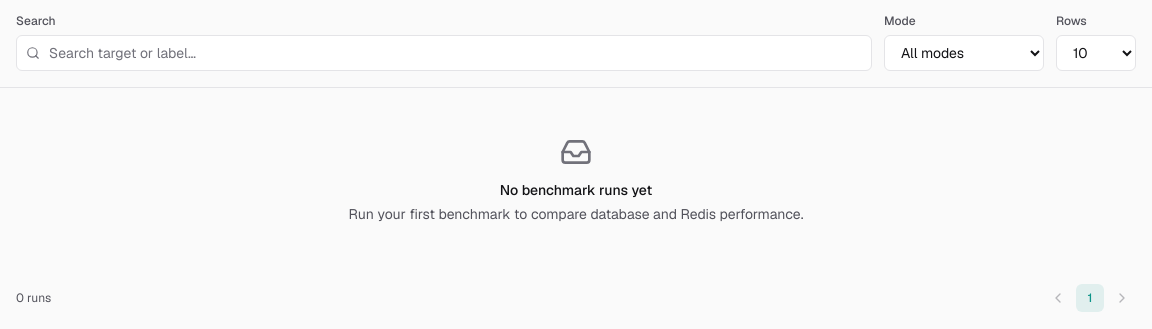
BenchmarkHistoryPanel › shows a filter-specific empty state once a filter matches nothing
Expected: the text "No benchmark runs yet" is shown, [500,181,652,199]
Select "CACHE_ONLY" in the dropdown labelled "Mode" at (964, 53), box [884,35,1044,71]
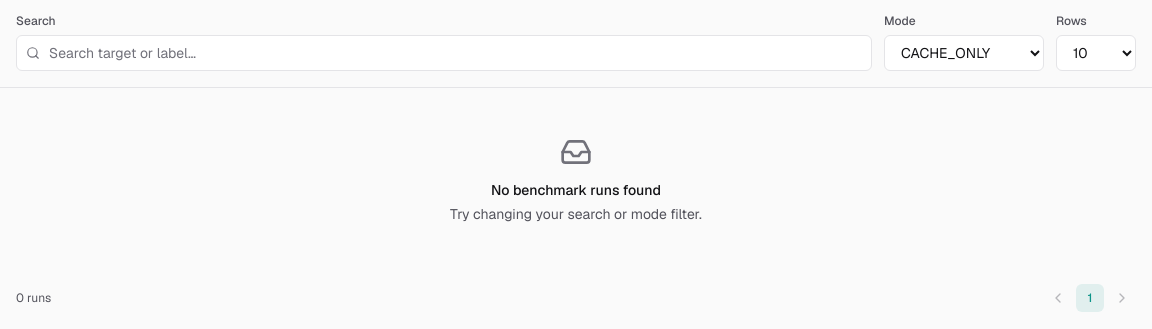
Expected: the text "No benchmark runs found" is shown, [491,181,661,199]
Expected: the text "Try changing your search or mode filter." is shown, [450,204,702,224]
